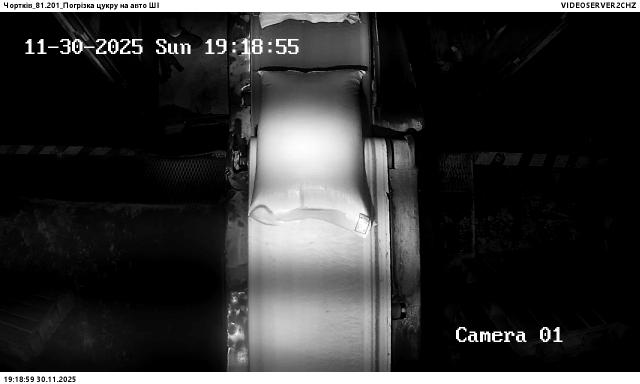bag: (249, 70, 374, 238), (260, 12, 365, 28)
